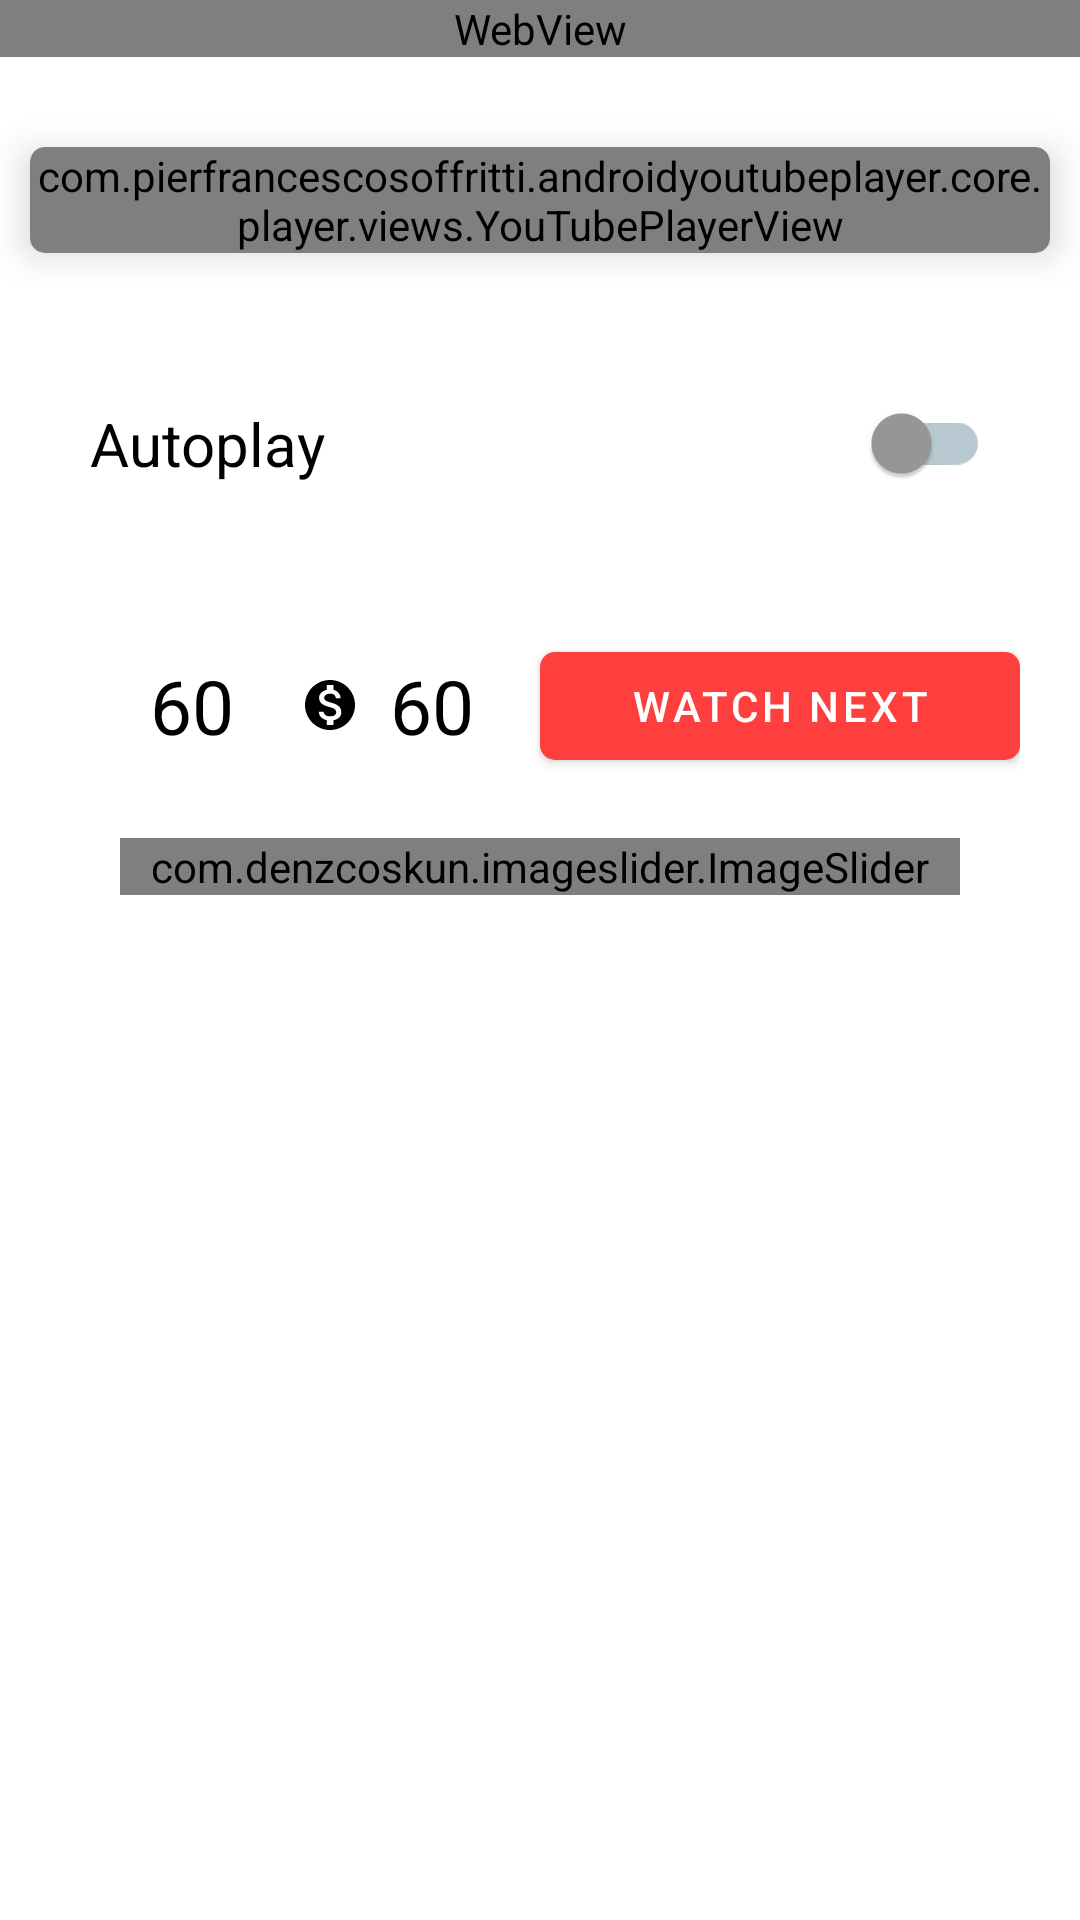

Named icons in this screenshot (1080x1920) and their bounding boxes, rect(x1, y1, x2, y2):
money points: rect(305, 680, 355, 730)
